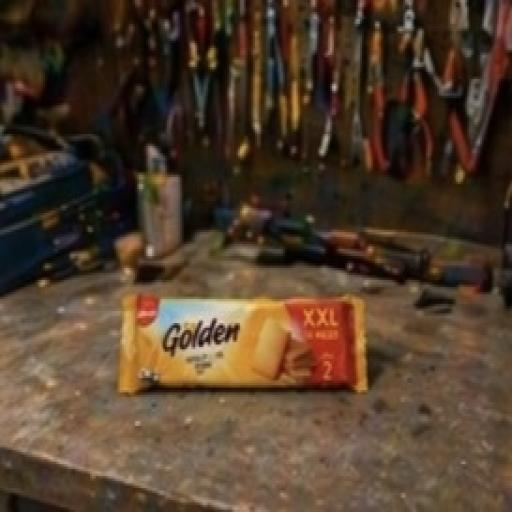golden: (97, 236, 394, 437)
